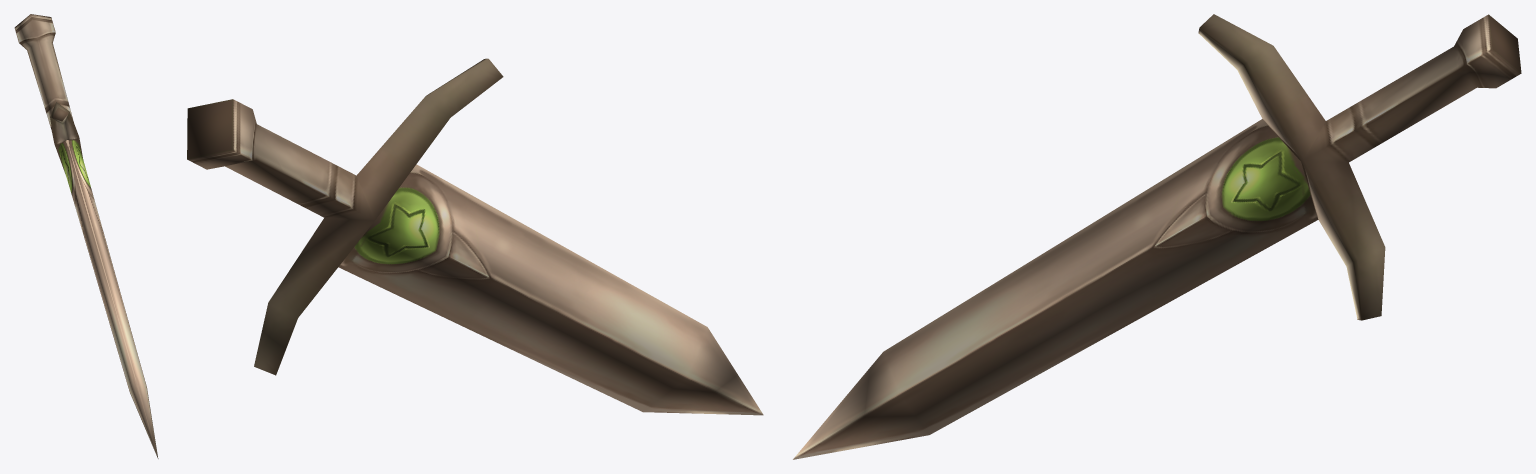
File: Sword(61).obj
3 views of the same model, side by side, from view 1: azimuth 30°, elevation 25°; view 2: azimuth 150°, elevation 25°; view 3: azimuth 270°, elevation 25° (orthographic). The views are drawn at different scales.
Parts seen in each view (by area): view 1: sword1_LOD003; view 2: sword1_LOD003; view 3: sword1_LOD003.
Part boxes in pixels (x1,y1,x2,y2): sword1_LOD003: [14, 14, 158, 458]; sword1_LOD003: [187, 58, 763, 415]; sword1_LOD003: [793, 14, 1521, 459].
Size of the model in its own units: 0.2881 by 0.8472 by 1.11.
